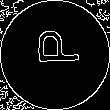P_W: (29, 36, 81, 74)
